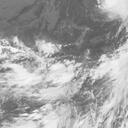cyclone: (35, 49, 87, 99)
